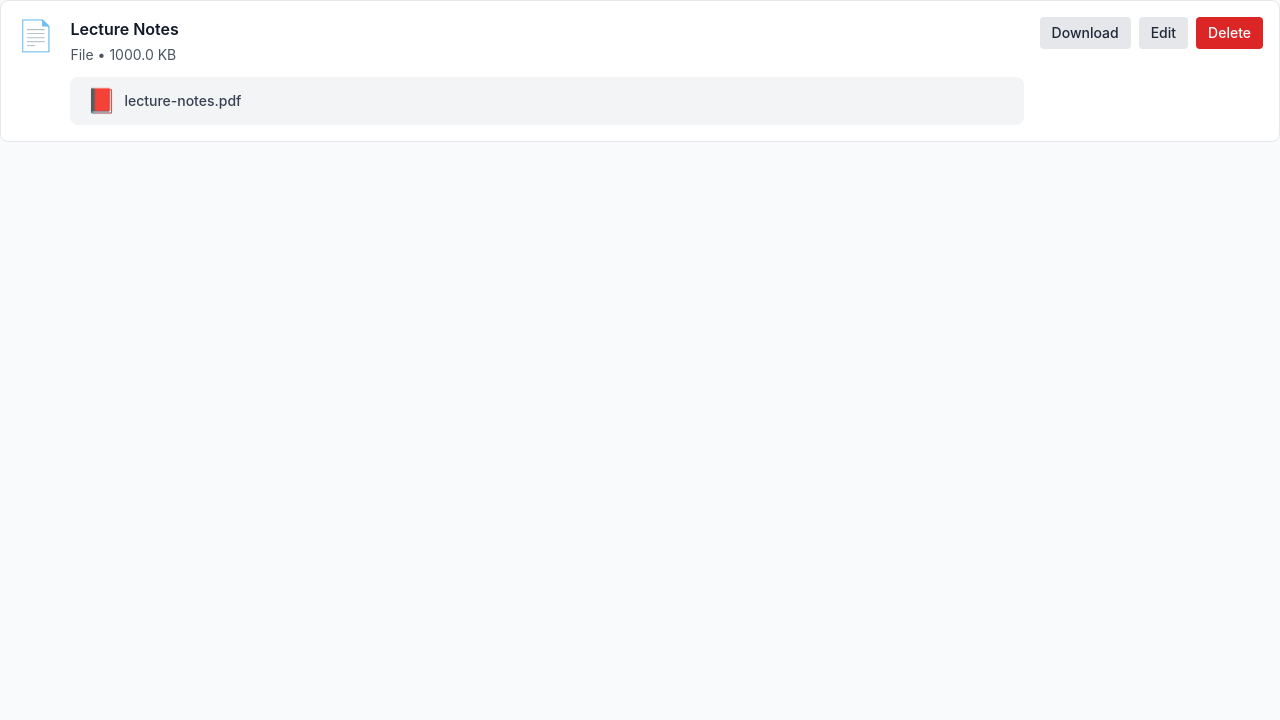
MaterialList Component › Edit Modal Integration › should close edit modal when cancel is clicked
Expected: the heading "Lecture Notes" is shown, [70,19,179,39]
# Open edit modal
What coordinates should you click on to do the following:
click the button "Edit"
I would click on:
 (1163, 33)
Its box is [1139,17,1188,49].
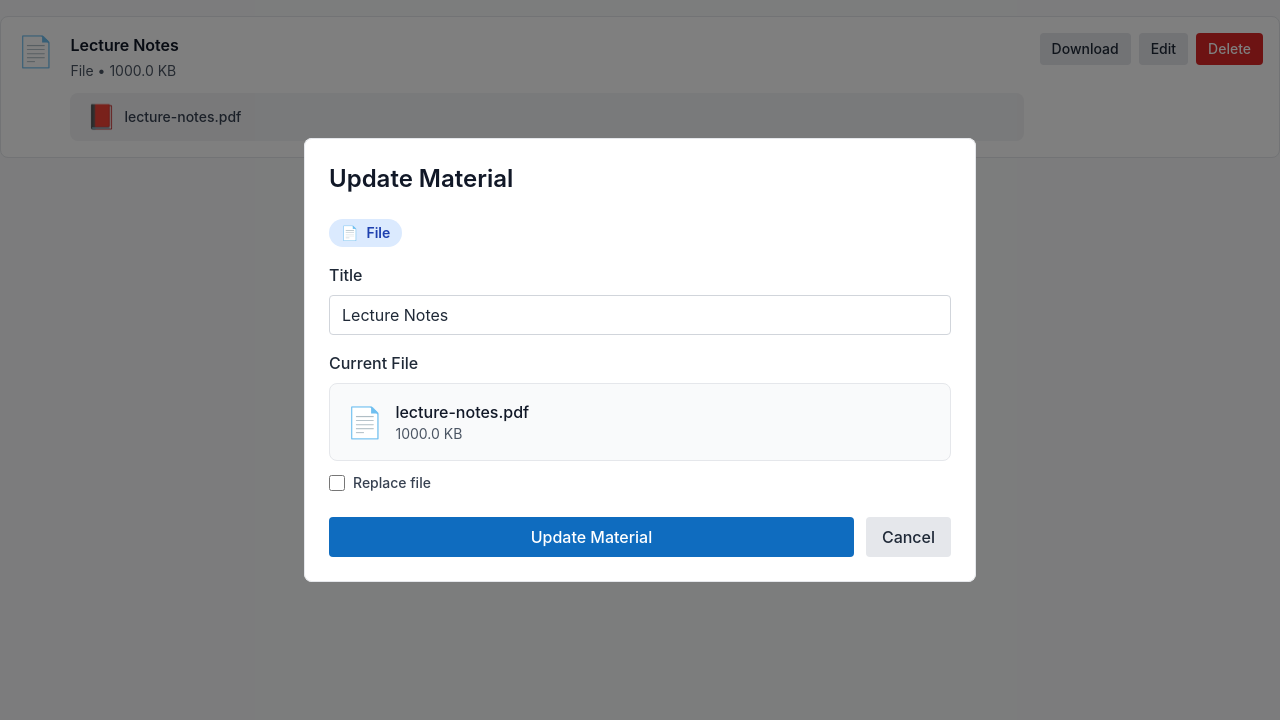
Expected: the heading "Update Material" is shown, [329,164,513,193]
# Click cancel
What coordinates should you click on to do the following:
click the button "Cancel"
I would click on:
 (908, 537)
Its box is [866,517,951,557].
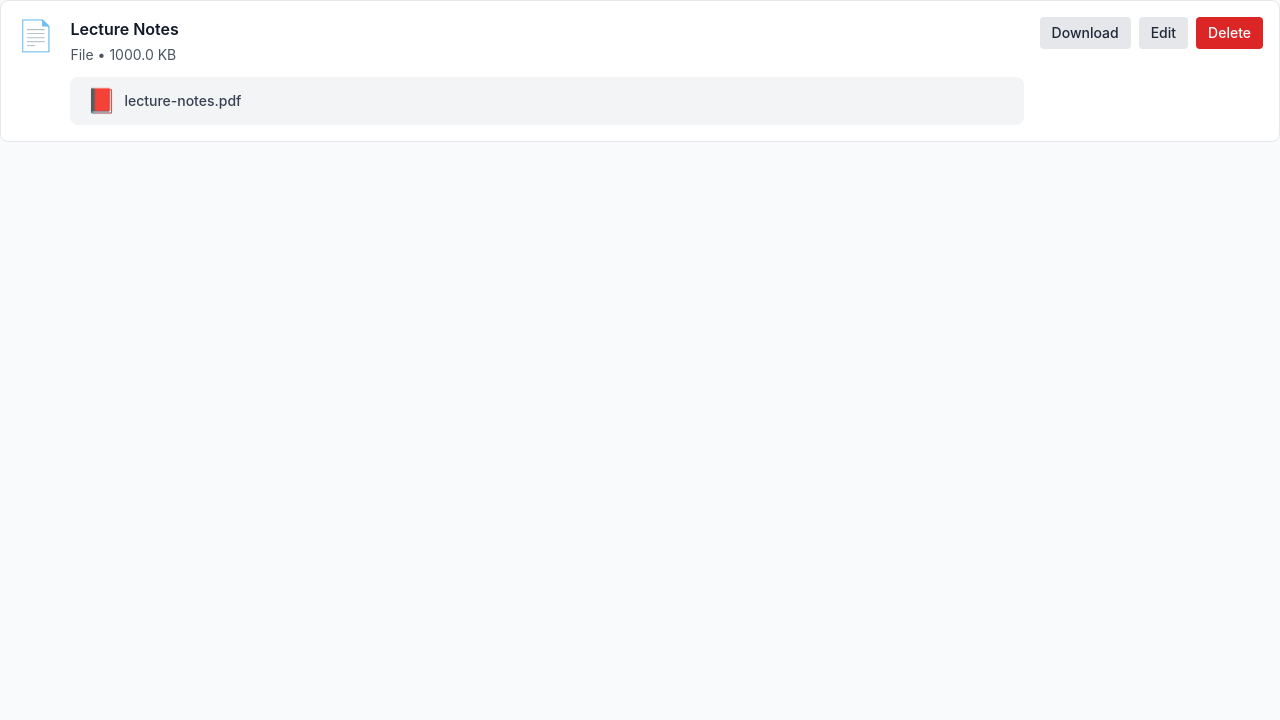
Expected: the heading "Lecture Notes" is shown, [70,19,179,39]
Expected: the heading "Update Material" is gone
